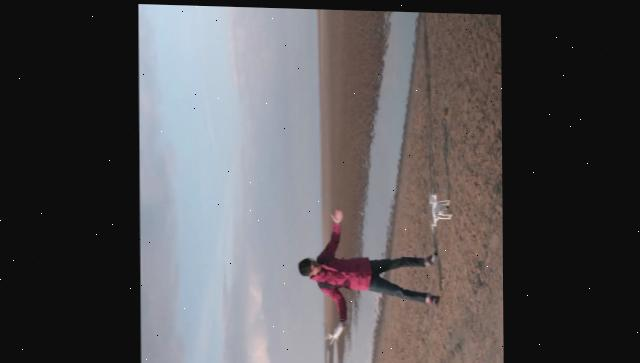drone: (425, 186, 450, 231)
